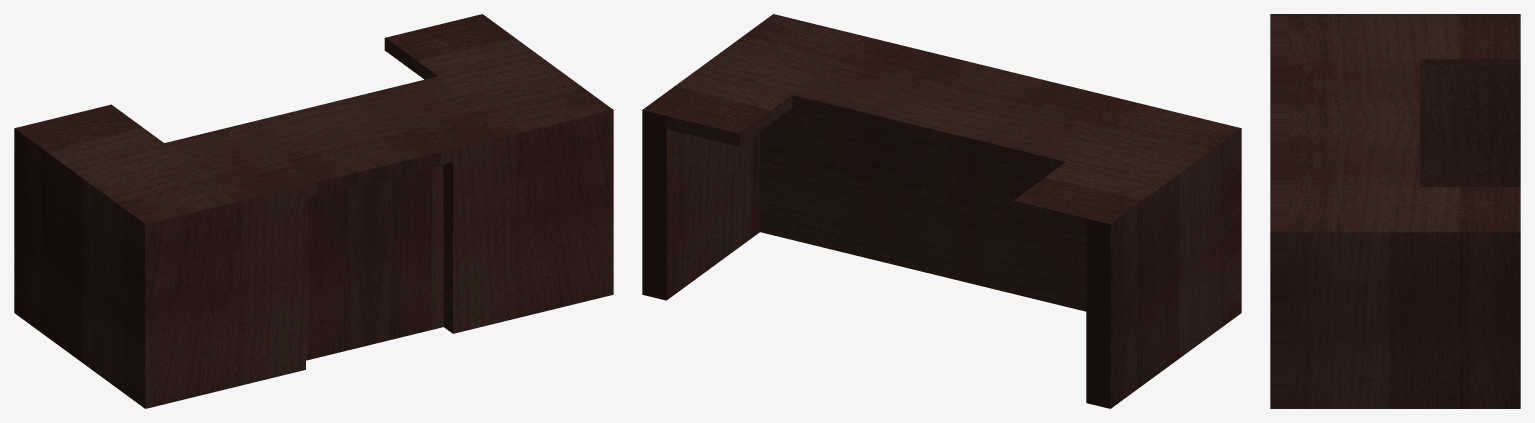
The model's file is bossdesk1.gltf.
3 renders of one model, left to right at view 1: azimuth 30°, elevation 25°; view 2: azimuth 150°, elevation 25°; view 3: azimuth 270°, elevation 25°, orthographic. The views are drawn at different scales.
Parts seen in each view (by area): view 1: Cube; view 2: Cube; view 3: Cube.
Part boxes in pixels (box(x1,y1,x2,y2)): Cube: box(14, 14, 613, 408); Cube: box(642, 14, 1241, 408); Cube: box(1270, 14, 1520, 408).
Bounding box in the file's own units: 5.3 × 2 × 2.57.
Materials: 2 (1 with a texture image).
